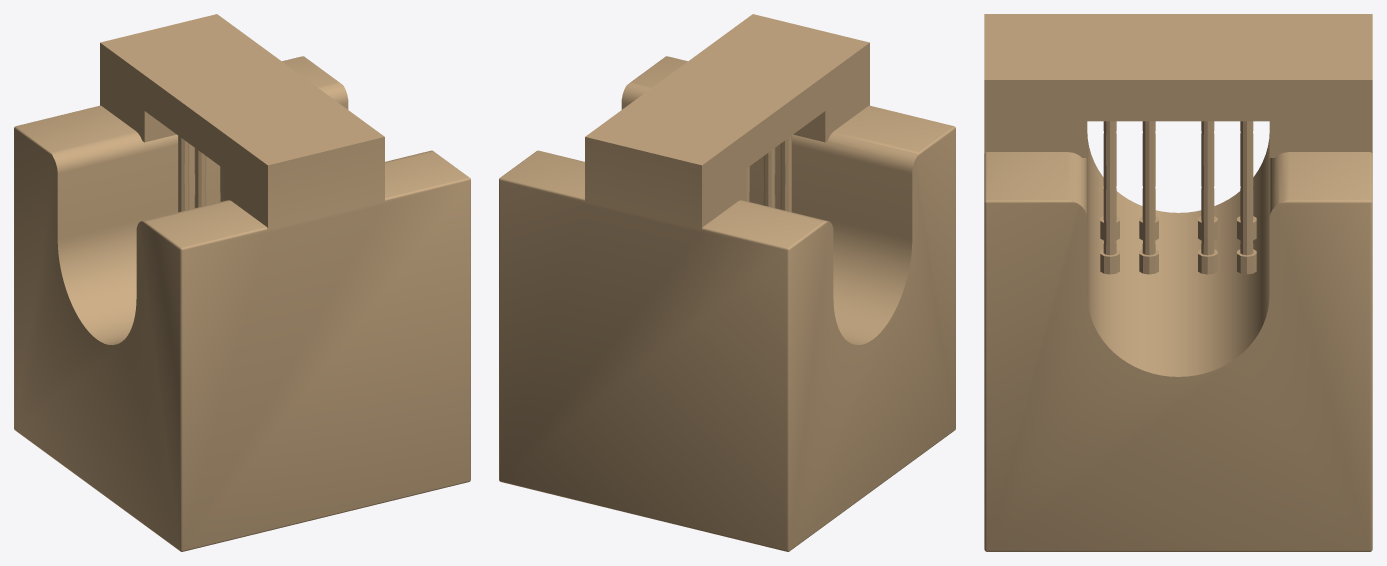
Rendered from mech_arch_rope_l2.glb.
3 renders of one model, left to right at view 1: azimuth 30°, elevation 25°; view 2: azimuth 150°, elevation 25°; view 3: azimuth 270°, elevation 25°, orthographic. The views are drawn at different scales.
Parts seen in each view (by area): view 1: mech_arch_rope_l2_lod0, anim_rope_0_lod0, anim_rope_1_lod0; view 2: mech_arch_rope_l2_lod0, anim_rope_3_lod0, anim_rope_2_lod0; view 3: mech_arch_rope_l2_lod0, anim_rope_4_lod0, anim_rope_5_lod0, anim_rope_6_lod0, anim_rope_7_lod0.
Boxes of the visible parts, left/top/right/bottom form: mech_arch_rope_l2_lod0: left=14, top=14, right=470, bottom=551; anim_rope_0_lod0: left=178, top=135, right=189, bottom=212; anim_rope_1_lod0: left=194, top=148, right=206, bottom=207; mech_arch_rope_l2_lod0: left=499, top=14, right=955, bottom=551; anim_rope_3_lod0: left=780, top=135, right=791, bottom=212; anim_rope_2_lod0: left=763, top=148, right=775, bottom=207; mech_arch_rope_l2_lod0: left=984, top=14, right=1372, bottom=551; anim_rope_4_lod0: left=1237, top=121, right=1256, bottom=274; anim_rope_5_lod0: left=1198, top=121, right=1217, bottom=274; anim_rope_6_lod0: left=1139, top=121, right=1158, bottom=274; anim_rope_7_lod0: left=1100, top=121, right=1119, bottom=274.
Size of what is drawn, in the model's own units: 0.0596 by 0.0718 by 0.0596.
